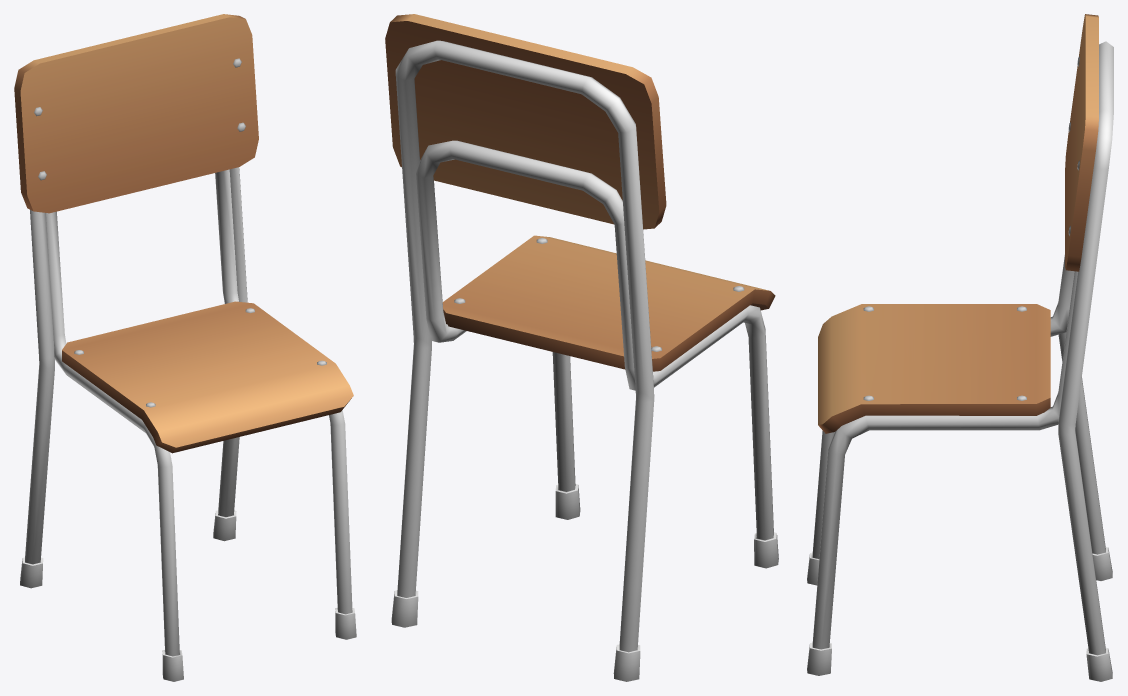
The model's file is CR_Chair.FBX.
3 renders of one model, left to right at view 1: azimuth 30°, elevation 25°; view 2: azimuth 150°, elevation 25°; view 3: azimuth 270°, elevation 25°, orthographic. The views are drawn at different scales.
Parts seen in each view (by area): view 1: CR_Chair; view 2: CR_Chair; view 3: CR_Chair.
Part boxes in pixels (<box>): CR_Chair: <box>14,14,356,681</box>; CR_Chair: <box>385,14,778,681</box>; CR_Chair: <box>807,14,1113,681</box>.
Bounding box in the file's own units: 13.57 × 29.32 × 14.55.
